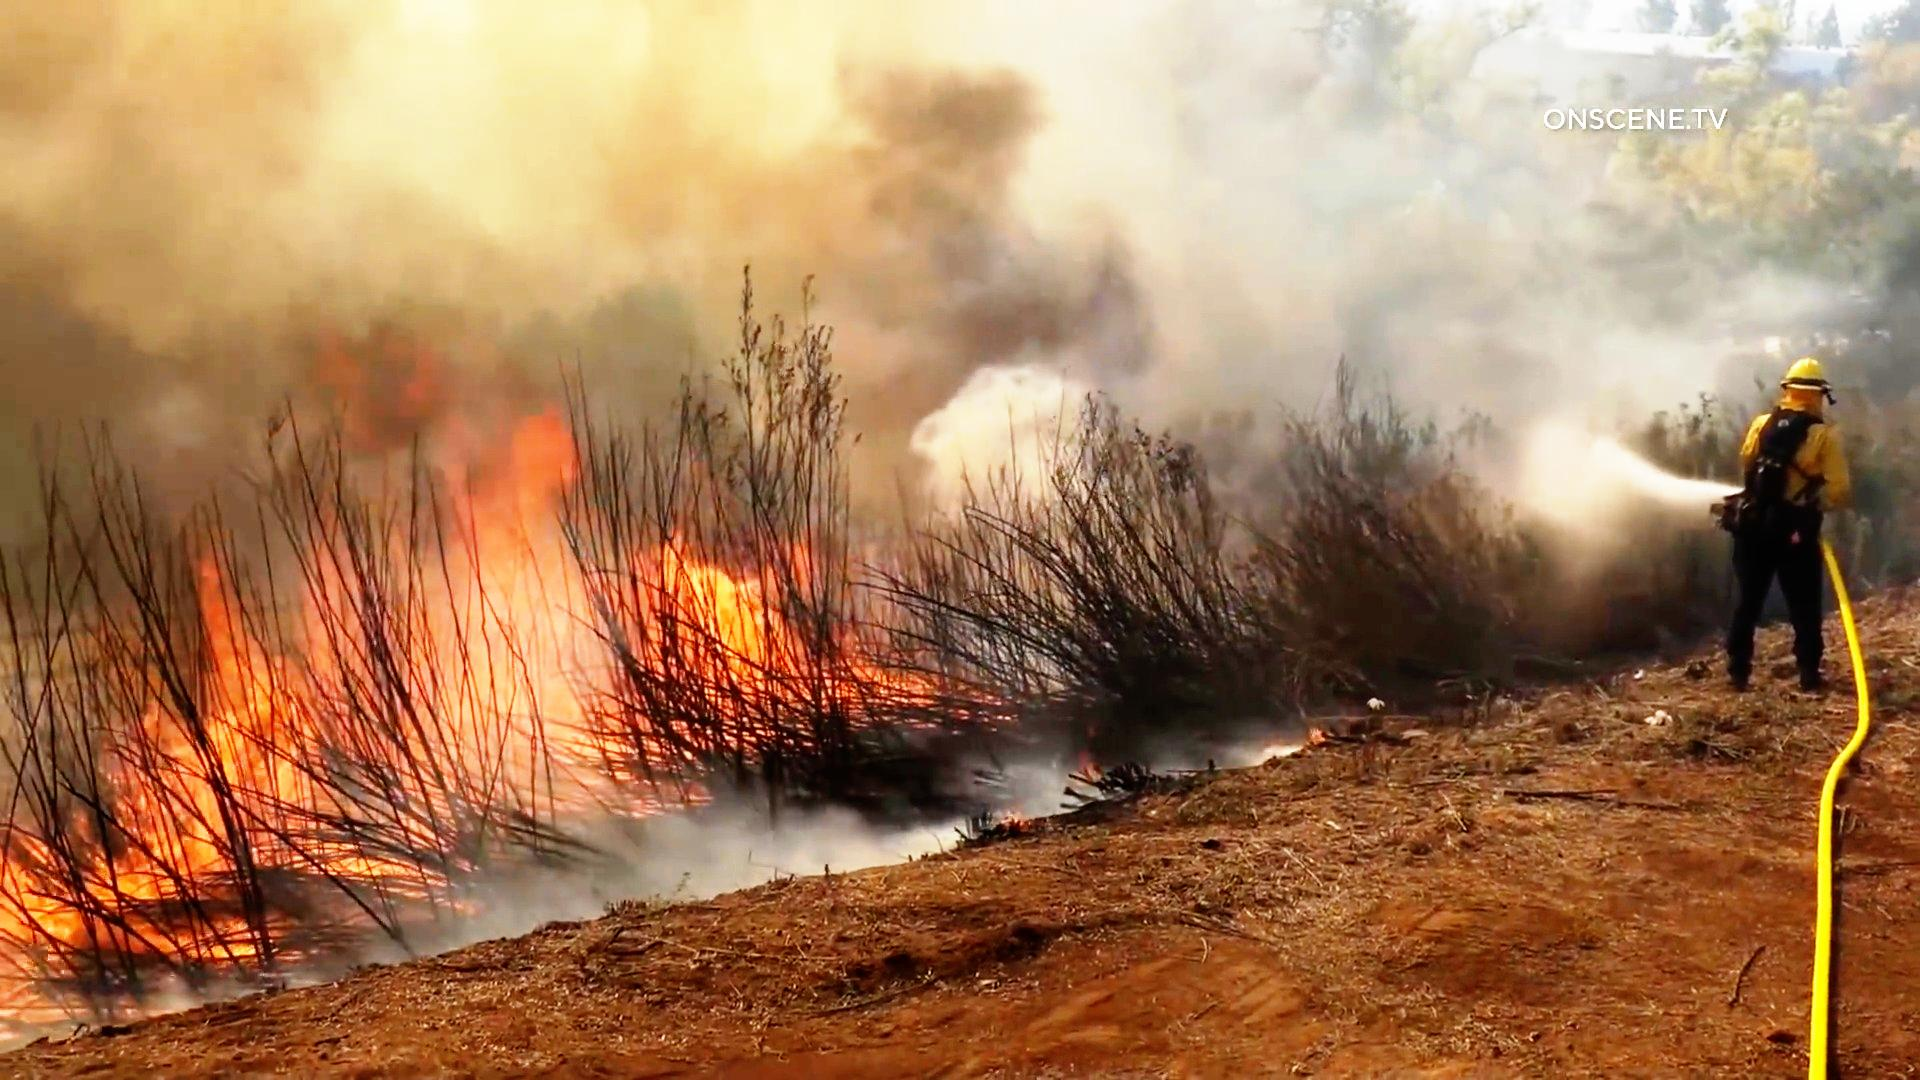fire: (37, 438, 566, 910)
smoke: (0, 8, 1234, 243), (1263, 13, 1535, 375), (33, 233, 645, 393), (881, 231, 1255, 393)
